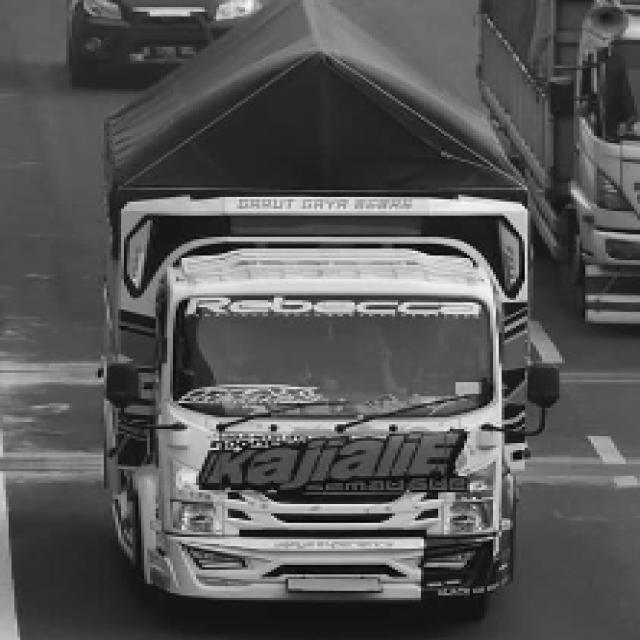Truck: (54, 2, 596, 620)
